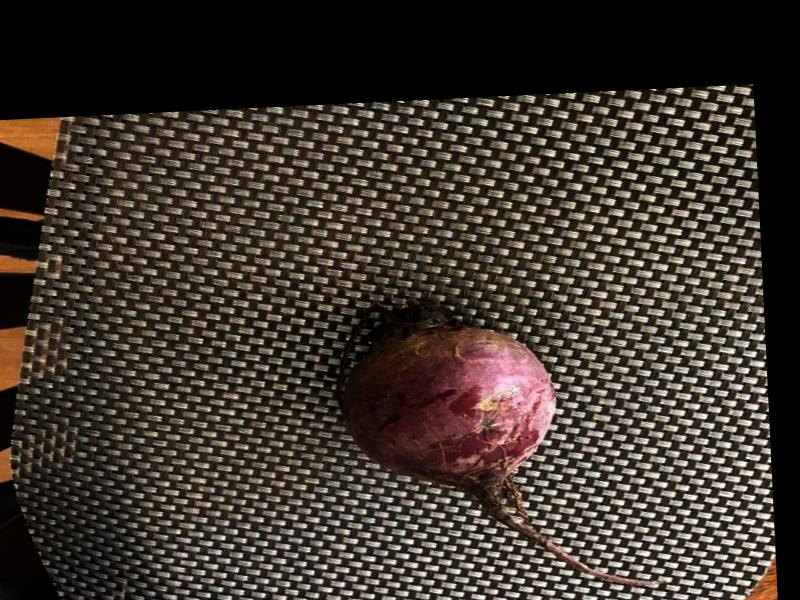Beet: (335, 288, 659, 600)
